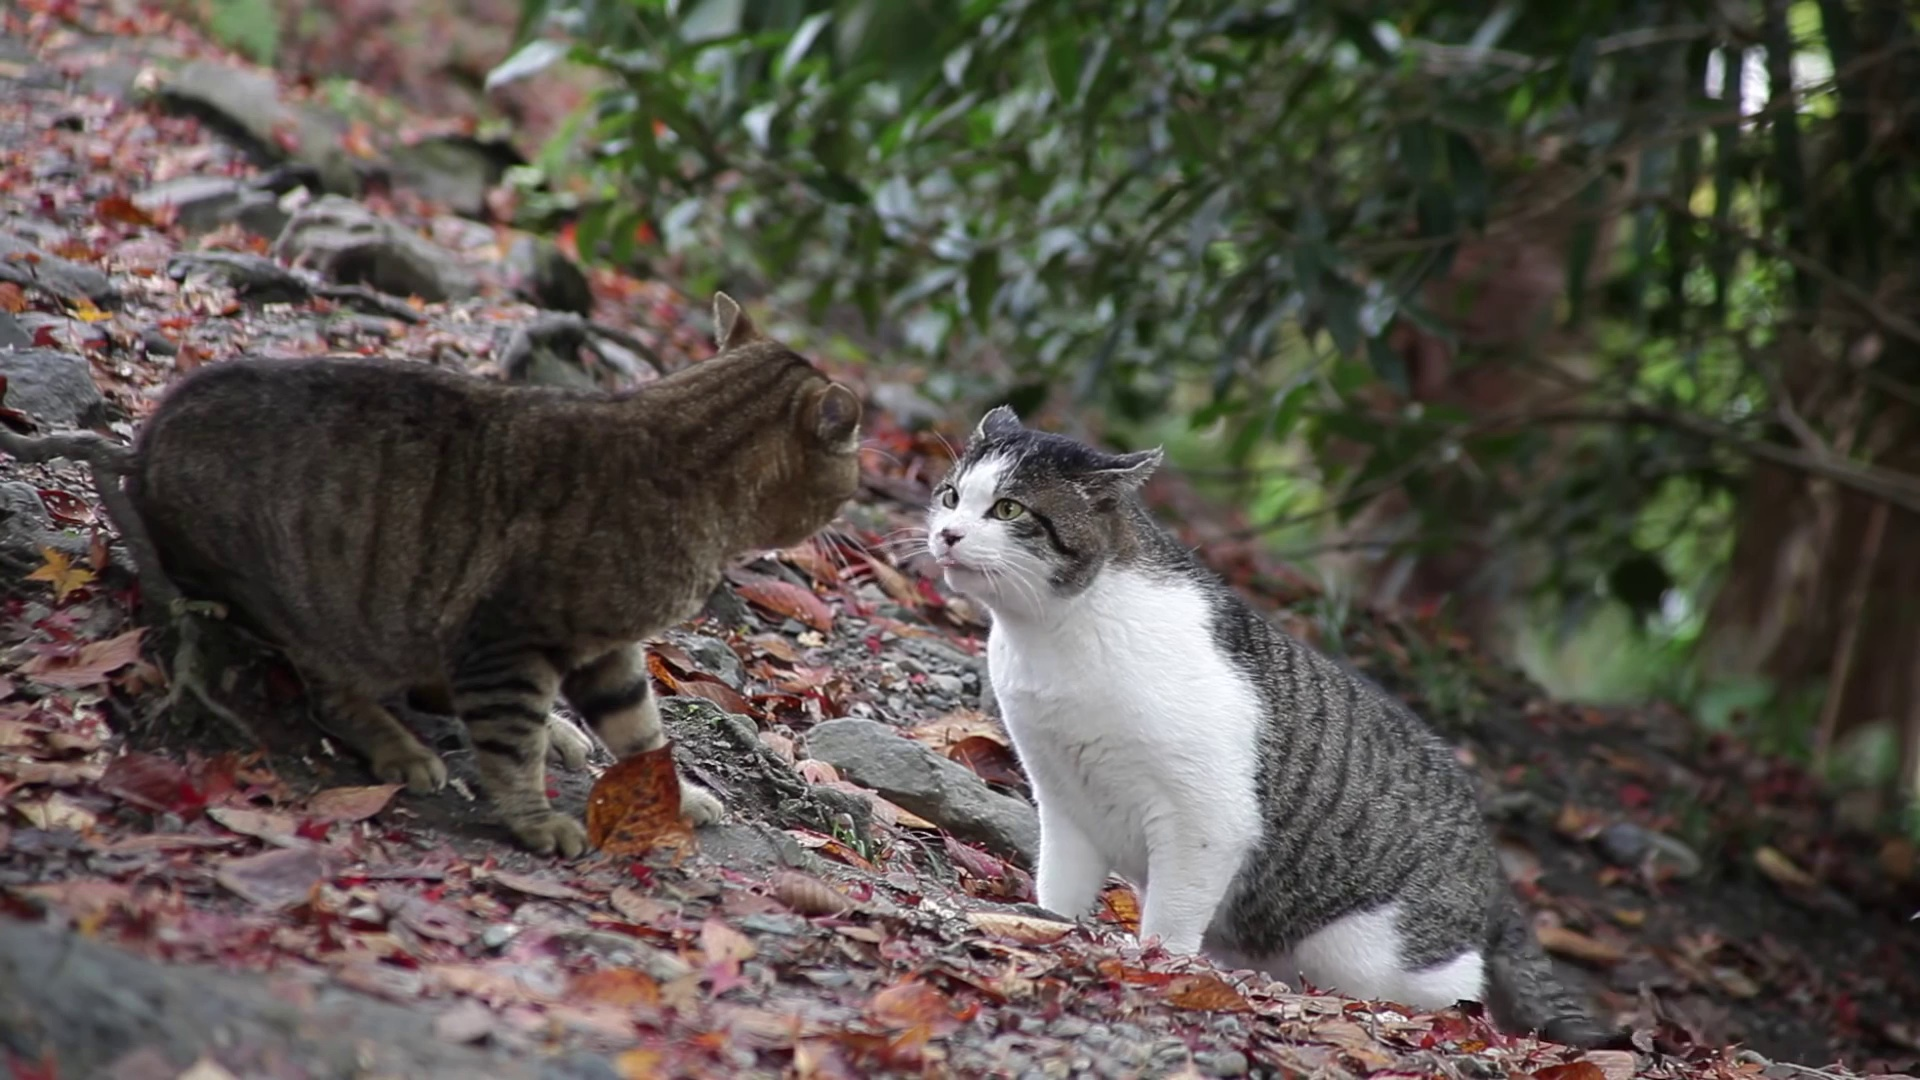black-white: (927, 407, 1493, 1005)
pure black: (132, 287, 861, 858)
